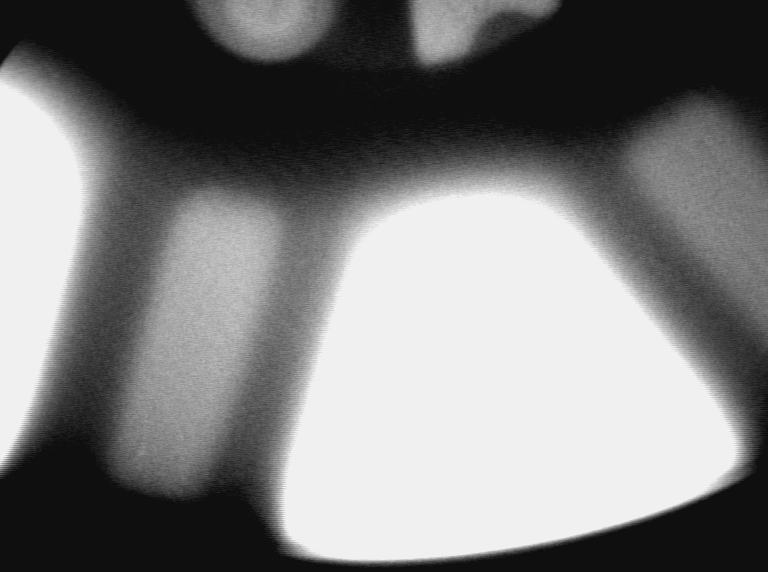defect: (132, 405, 153, 471)
